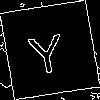Y: (24, 24, 67, 76)
